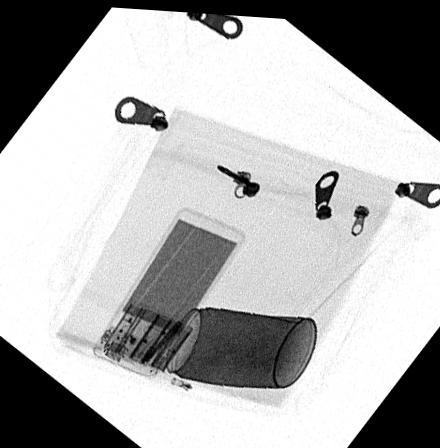Powerbank: (91, 203, 245, 376)
